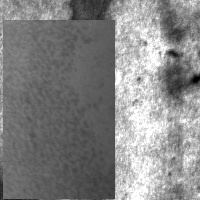patches: (48, 1, 110, 200), (160, 14, 199, 98)
pitted_surface: (3, 20, 115, 199)
